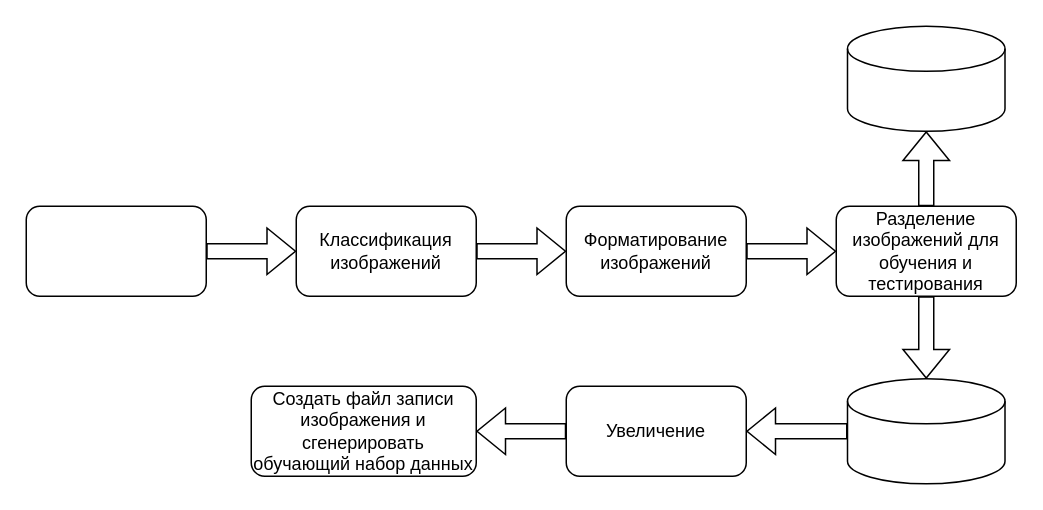
Image size: 1043x510. Some labels were removed from this diagram. The centre of each missing label's shape, as x and y in pixels:
"Изображения" goes at point (115, 250).
"Изображения для обучения" goes at point (925, 430).
"Изображения для тестирования" goes at point (925, 78).
